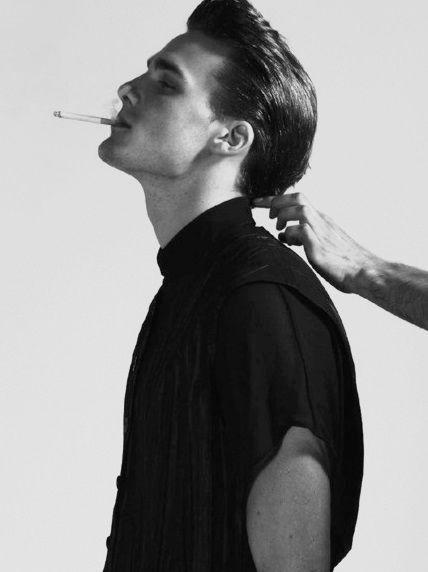cigarette: (53, 110, 122, 125)
